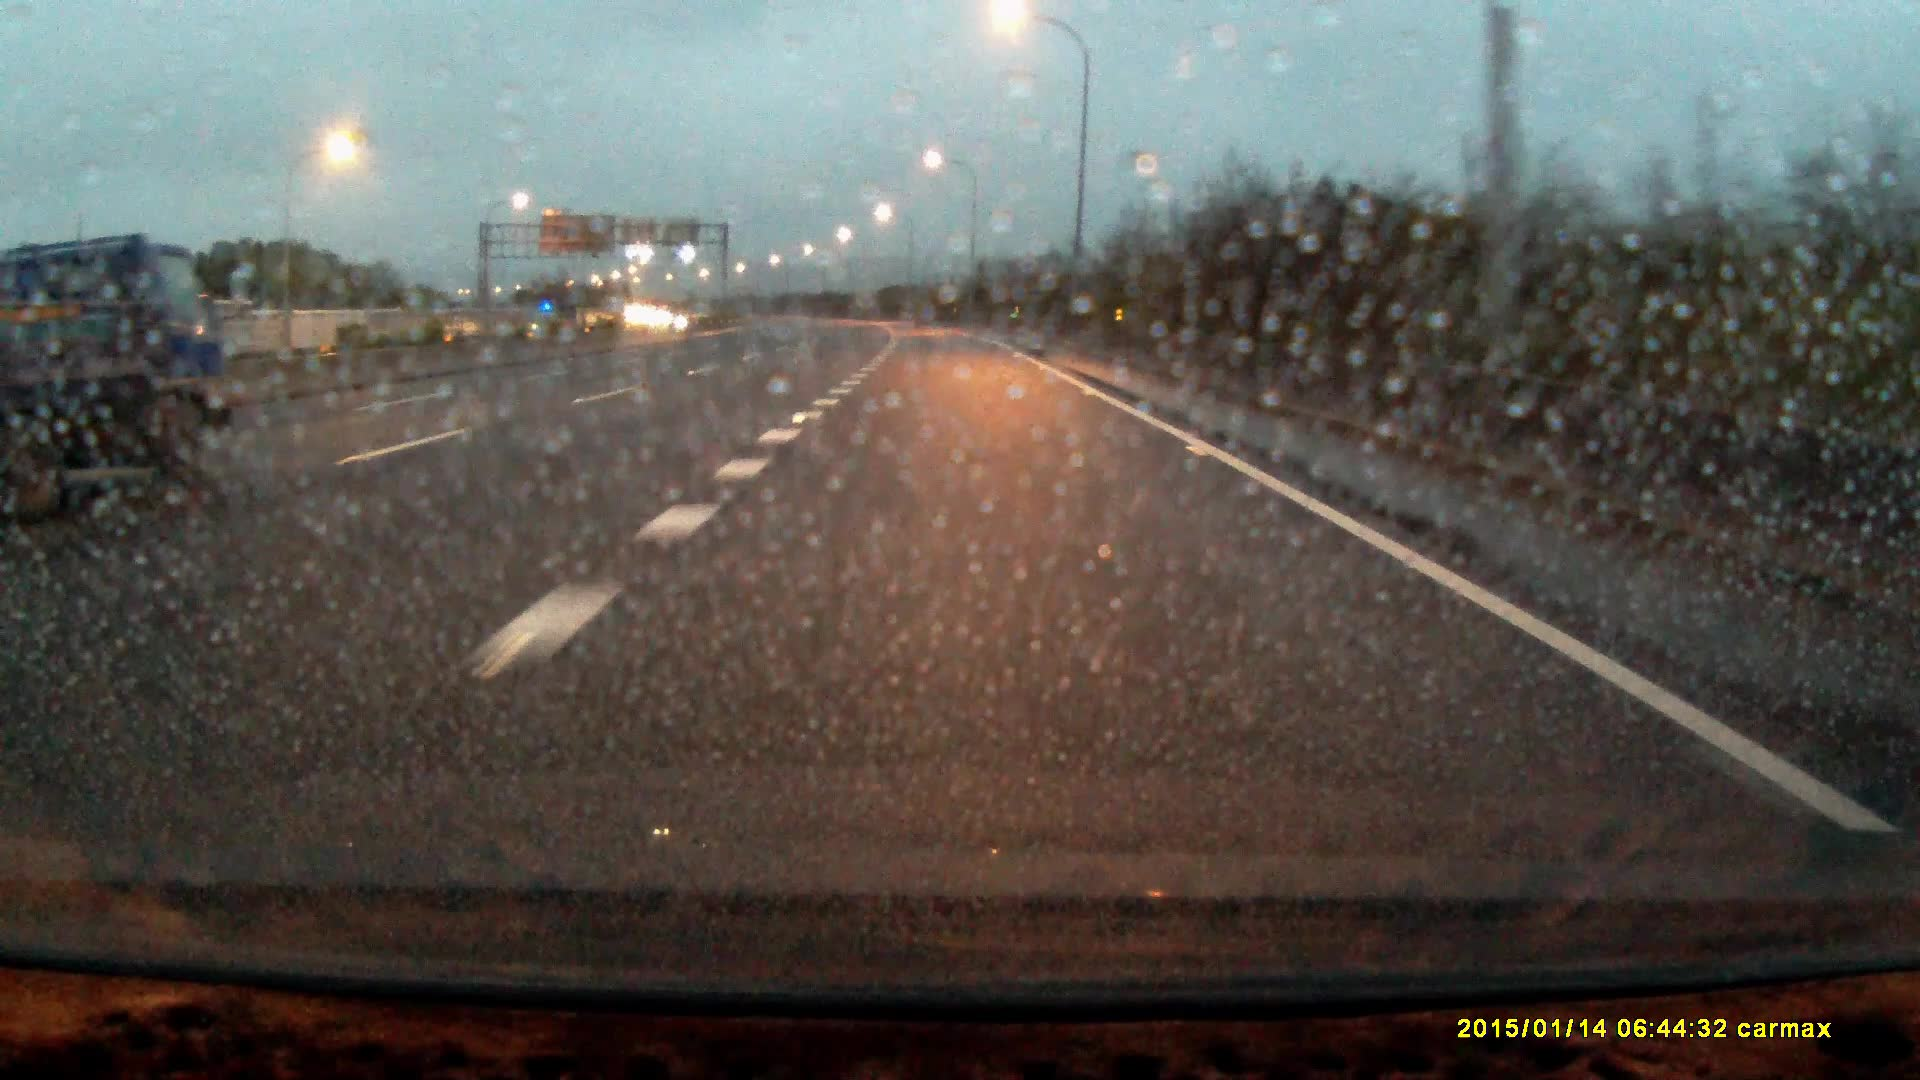vehicle: (1, 222, 286, 524)
